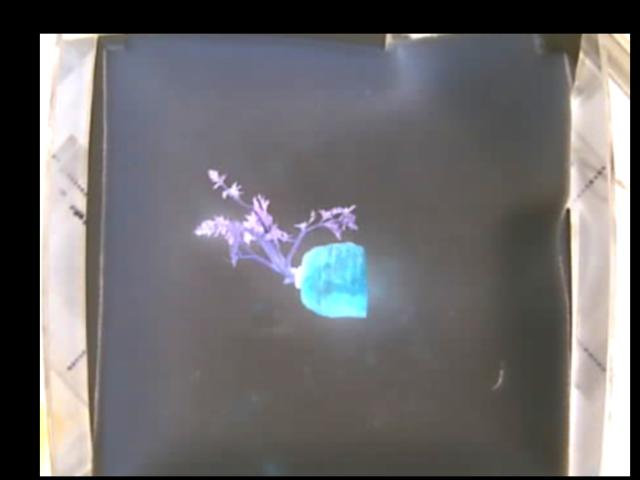Carrot: (192, 169, 366, 316)
